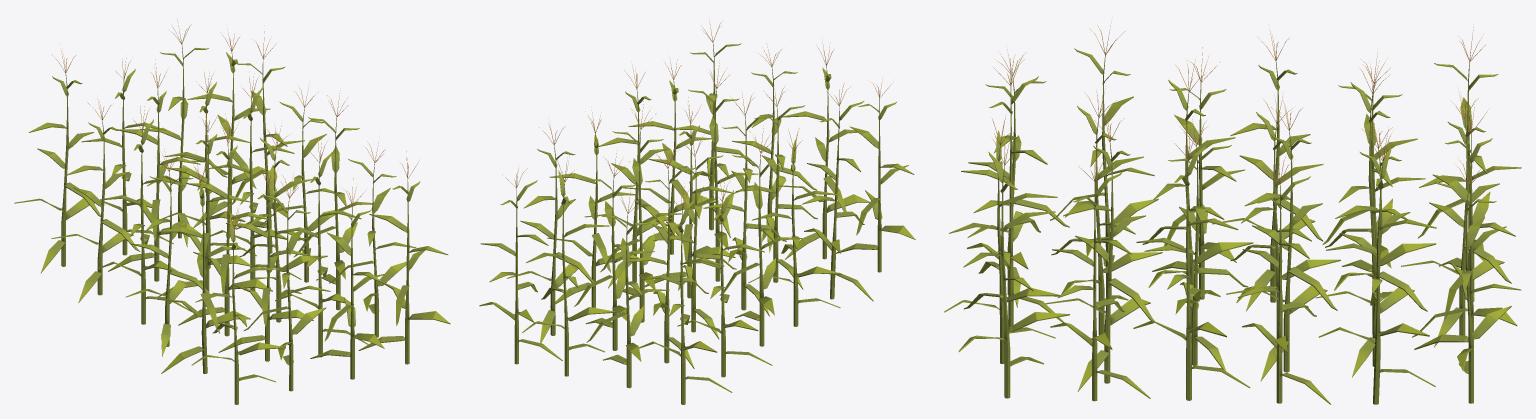
File: General.glb
The picture shows the model from 3 angles, left to right: view 1: azimuth 30°, elevation 25°; view 2: azimuth 150°, elevation 25°; view 3: azimuth 270°, elevation 25°; orthographic projection. The views are drawn at different scales.
Parts seen in each view (by area): view 1: FieldOfCorn_mesh; view 2: FieldOfCorn_mesh; view 3: FieldOfCorn_mesh.
Boxes of the visible parts, x1,y1,x2,y2 form: FieldOfCorn_mesh: (14, 21, 450, 404); FieldOfCorn_mesh: (479, 22, 915, 404); FieldOfCorn_mesh: (944, 21, 1521, 404).
Bounding box in the file's own units: 15.73 × 13.52 × 24.11.
1 material, 1 textured.
